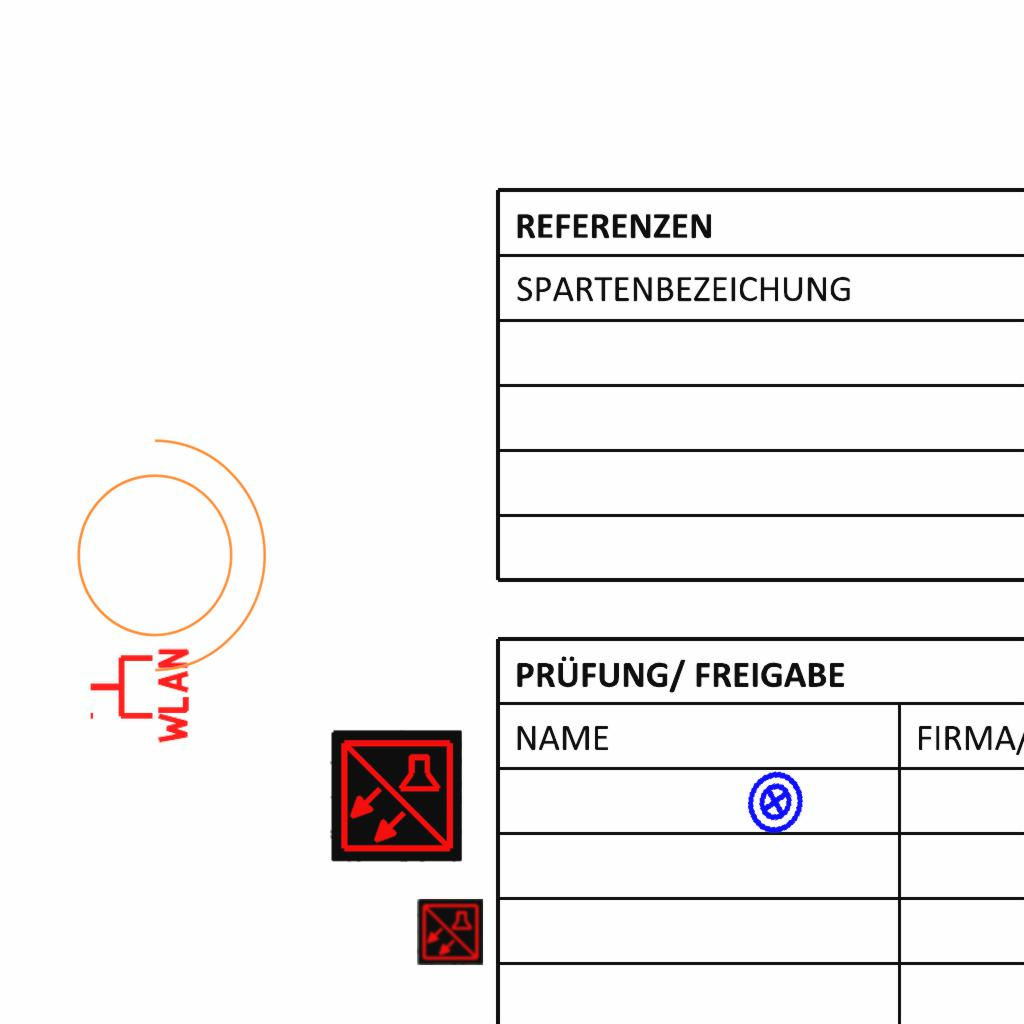OKW_Multisensormelder_(Kombination_optischer_Rauch-Kahlenmonoxid_Waerme-Melder): (330, 730, 462, 862), (417, 899, 483, 965)
Scheinwerfer_fuer_Alarmbeleuchtung: (52, 417, 277, 681)
Taster_beleuchtet: (735, 762, 815, 842)
WLAN: (86, 644, 191, 748)
